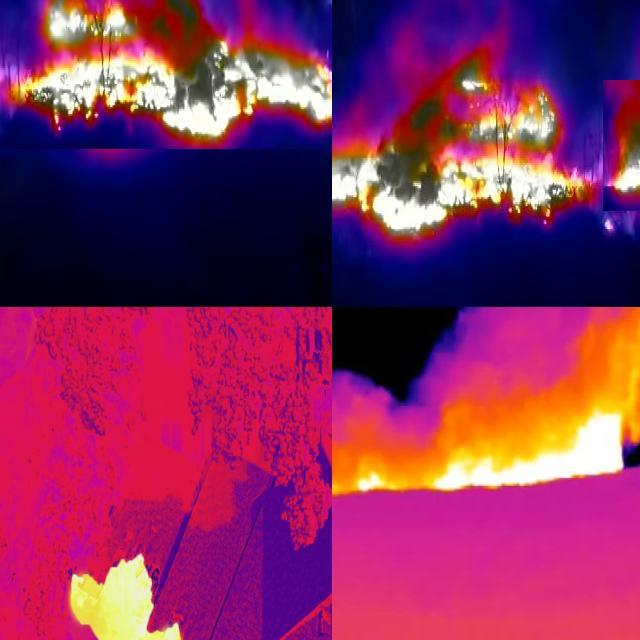fire: (333, 40, 597, 239), (1, 1, 333, 149), (333, 404, 624, 508), (57, 522, 251, 640), (603, 80, 640, 211)
